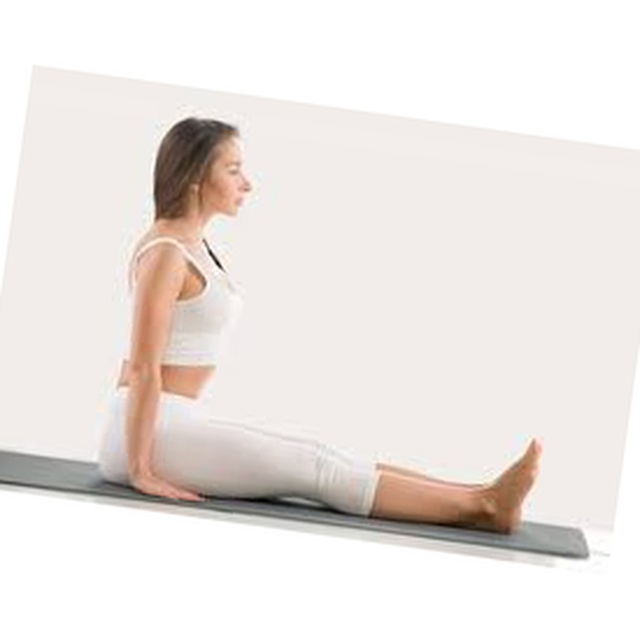Staff_Pose: (97, 116, 542, 537)
